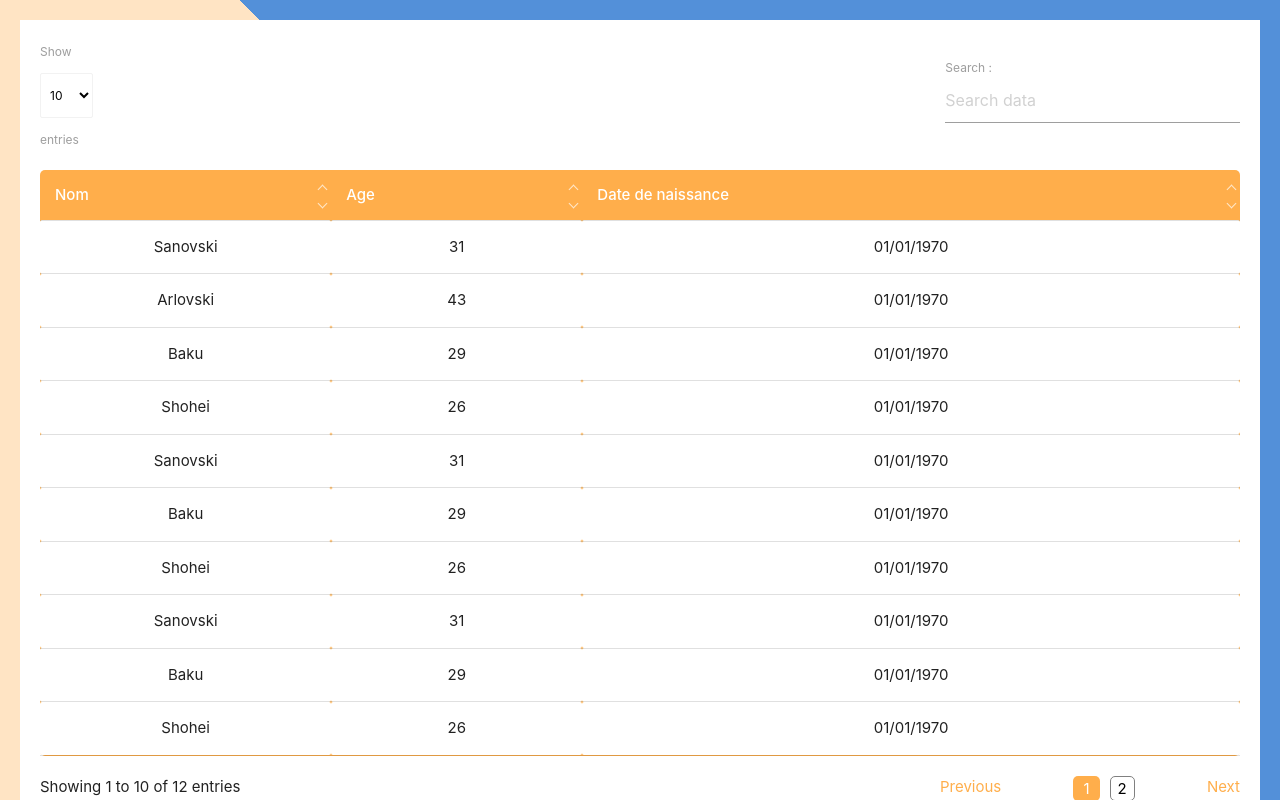
Test case: sorts data on categroy click
Click the icon with test id "name-arrow-up".
click(323, 190)  # box [318, 185, 328, 194]
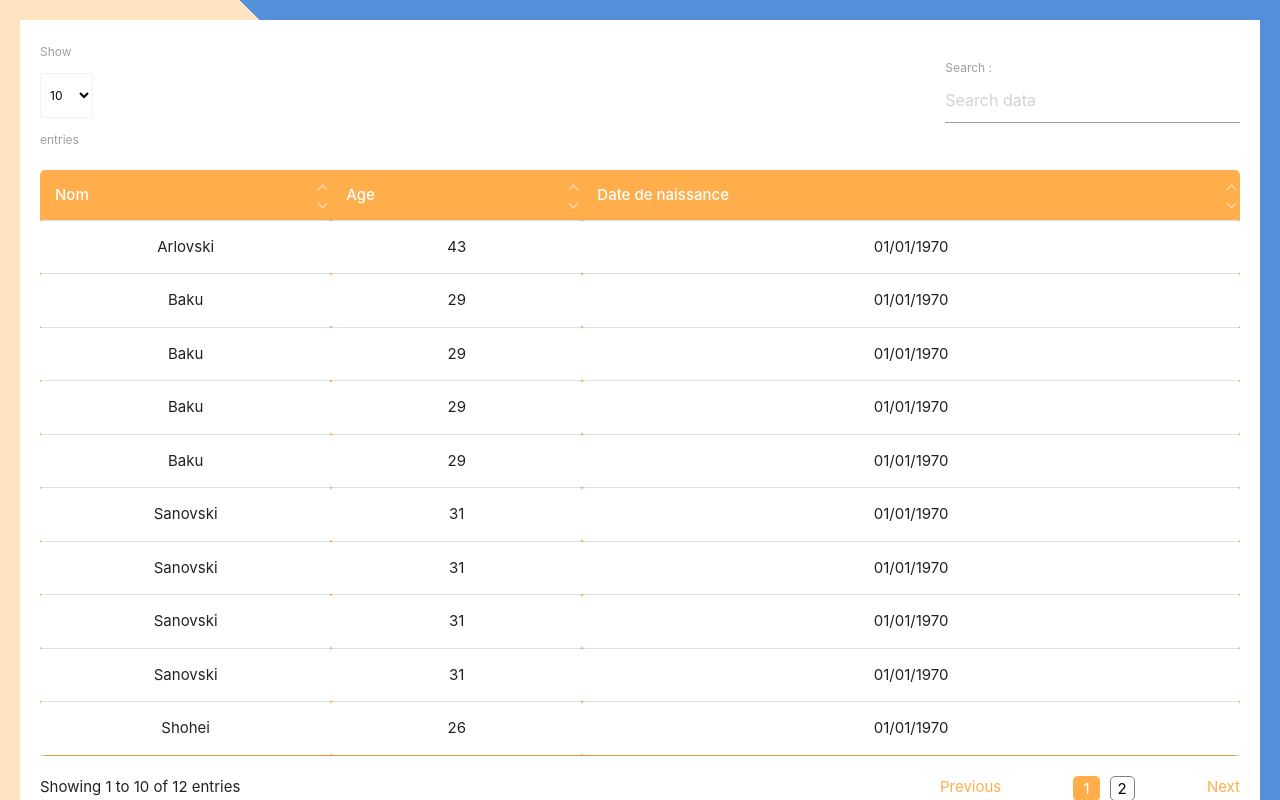
Expected: the cell "Arlovski" is shown, [40, 220, 331, 274]
